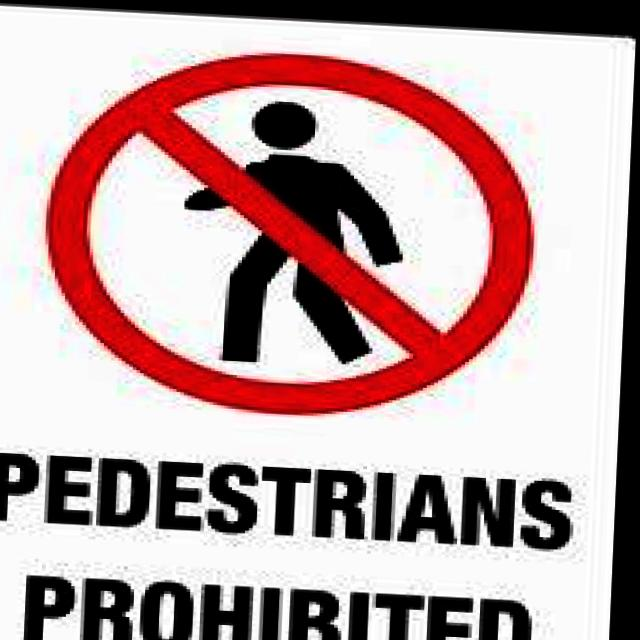PEDESTRIAN_PROHIBITED: (40, 41, 541, 414)
